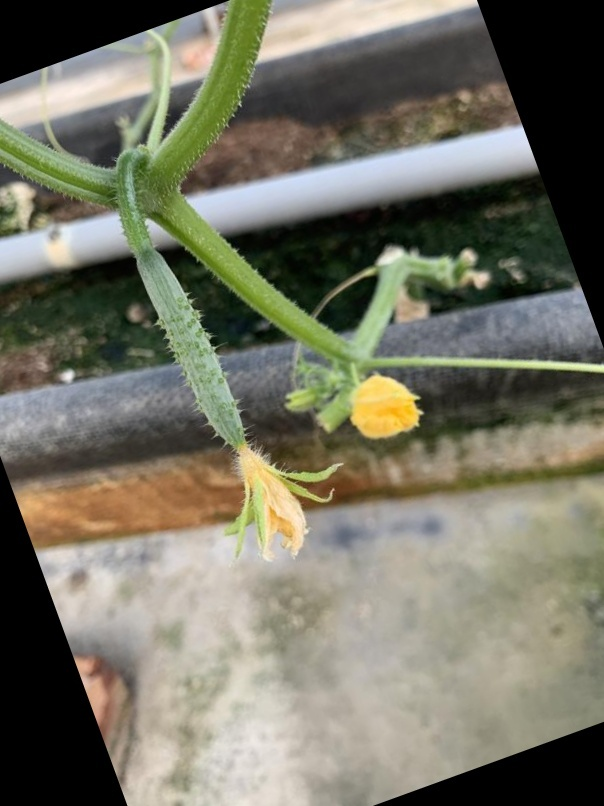bear: (107, 203, 339, 570)
